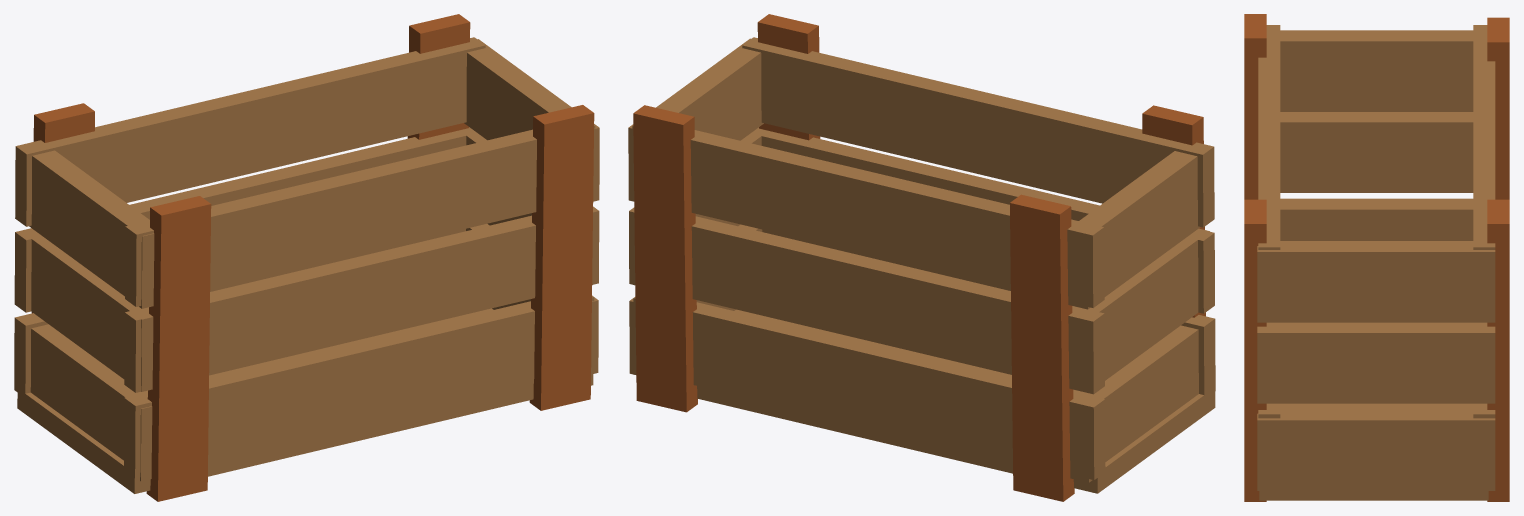
File: Crate_02.fbx
The picture shows the model from 3 angles, left to right: view 1: azimuth 30°, elevation 25°; view 2: azimuth 150°, elevation 25°; view 3: azimuth 270°, elevation 25°; orthographic projection. The views are drawn at different scales.
Visible parts, largest first — view 1: pCube28, pCube22, pCube36, pCube21, pCube33, pCube32, pCube25, pCube37, pCube23, pCube24, pCube35, pCube29 (+5 smaller); view 2: pCube36, pCube28, pCube34, pCube35, pCube27, pCube26, pCube25, pCube23, pCube37, pCube24, pCube21, pCube29 (+4 smaller); view 3: pCube31, pCube30, pCube29, pCube25, pCube23, pCube24, pCube27, pCube33, pCube36, pCube28, pCube37, pCube32 (+3 smaller).
Boxes of the visible parts, x1,y1,x2,y2 form: pCube28: (15, 37, 485, 226); pCube22: (124, 295, 594, 478); pCube36: (125, 125, 595, 306); pCube21: (124, 215, 535, 392); pCube33: (529, 105, 594, 410); pCube32: (146, 196, 211, 501); pCube25: (29, 150, 154, 308); pCube37: (17, 308, 593, 493); pCube23: (22, 229, 153, 391); pCube24: (30, 324, 152, 481); pCube35: (14, 128, 476, 312); pCube29: (464, 39, 599, 201); pCube36: (742, 37, 1214, 227); pCube28: (632, 125, 1104, 307); pCube34: (633, 297, 1105, 479); pCube35: (632, 211, 1104, 394); pCube27: (633, 105, 697, 412); pCube26: (1010, 194, 1074, 501); pCube25: (1068, 151, 1200, 309); pCube23: (1069, 228, 1209, 380); pCube37: (697, 309, 1215, 493); pCube24: (1070, 325, 1198, 482); pCube21: (753, 128, 1214, 313); pCube29: (628, 38, 763, 201); pCube31: (1257, 322, 1495, 403); pCube30: (1257, 409, 1495, 490); pCube29: (1257, 241, 1495, 322); pCube25: (1280, 30, 1473, 111); pCube23: (1280, 112, 1473, 192); pCube24: (1280, 198, 1473, 240); pCube27: (1487, 199, 1509, 501); pCube33: (1244, 199, 1266, 501); pCube36: (1258, 25, 1280, 249); pCube28: (1473, 25, 1495, 249); pCube37: (1259, 403, 1488, 500); pCube32: (1244, 14, 1266, 199).
Bounding box in the file's own units: 6.43 × 3.82 × 3.24.
